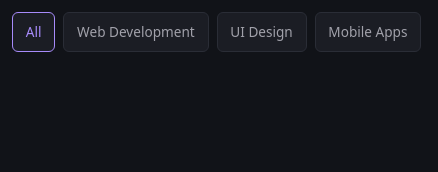
it: changes the selected category when a filter is clicked
Click the button "UI Design": (262, 32) [216,12,306,52]
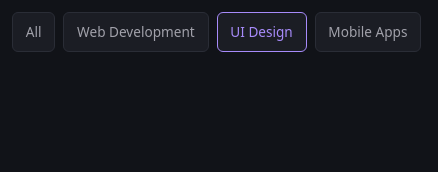
expect the button "UI Design" is pressed: met, box [216,12,306,52]
expect the button "All" is not pressed: met, box [12,12,55,52]
